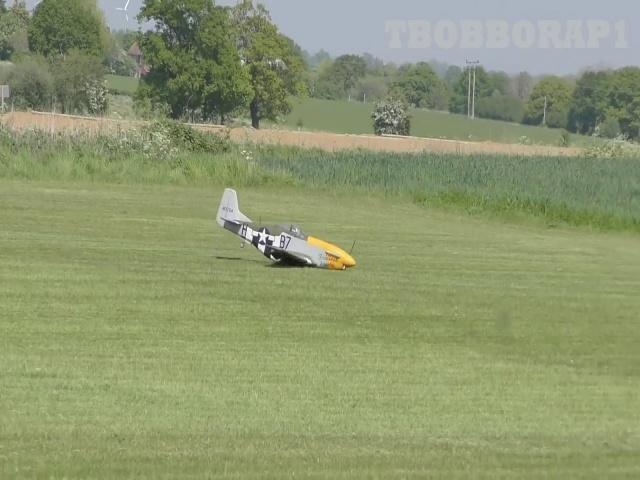Airplane: (210, 176, 362, 276)
